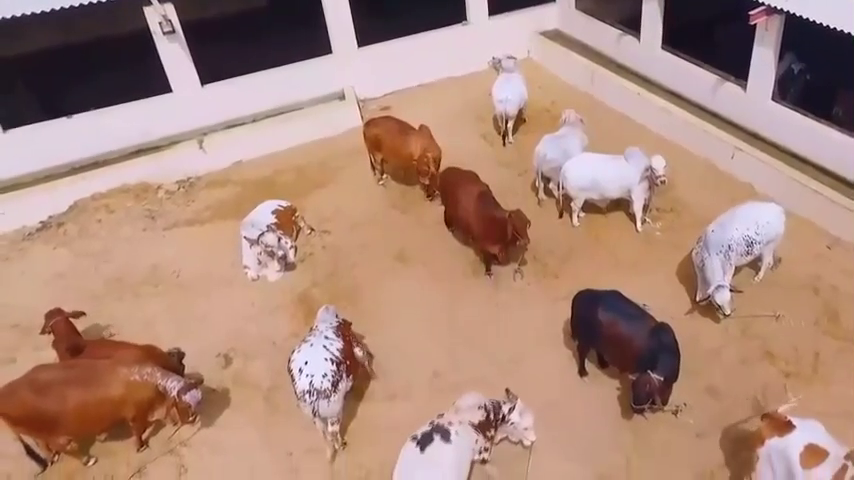bo: (4, 356, 203, 474), (558, 278, 676, 422), (384, 380, 544, 480), (279, 302, 380, 453), (551, 137, 675, 244), (32, 299, 195, 380), (689, 195, 786, 322), (437, 162, 534, 286), (734, 392, 854, 480), (225, 186, 315, 294), (351, 105, 443, 197), (476, 41, 532, 144), (525, 105, 589, 194)
